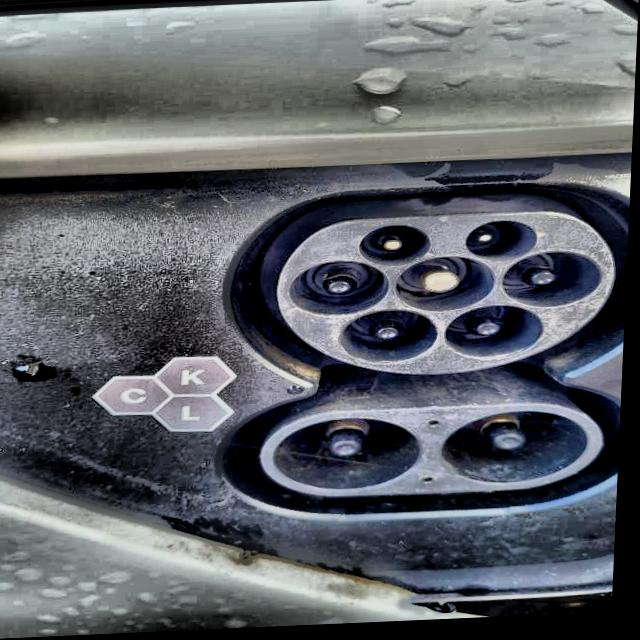inlet: (280, 217, 619, 379)
inlet-above-left: (363, 228, 435, 268)
inlet-above-right: (469, 225, 540, 265)
inlet-below-left: (343, 313, 442, 366)
inlet-below-right: (449, 310, 546, 364)
inlet-center: (399, 261, 498, 316)
inlet-center-left: (292, 264, 392, 319)
inlet-center-right: (506, 257, 605, 314)
